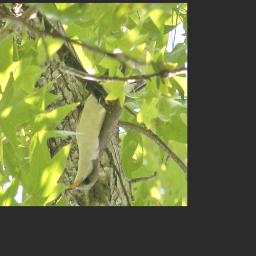Cuckoo: (64, 63, 147, 194)
